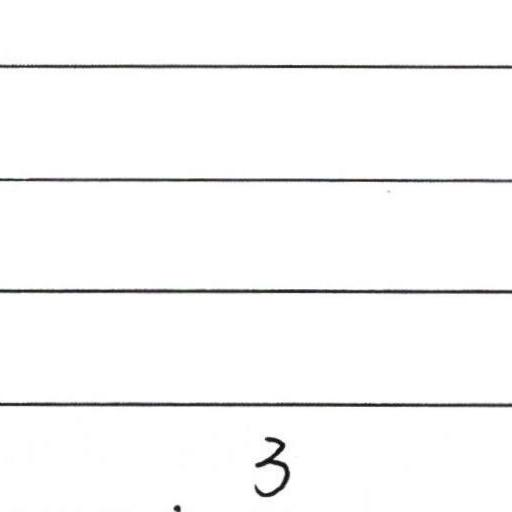ans: (249, 430, 294, 500)
